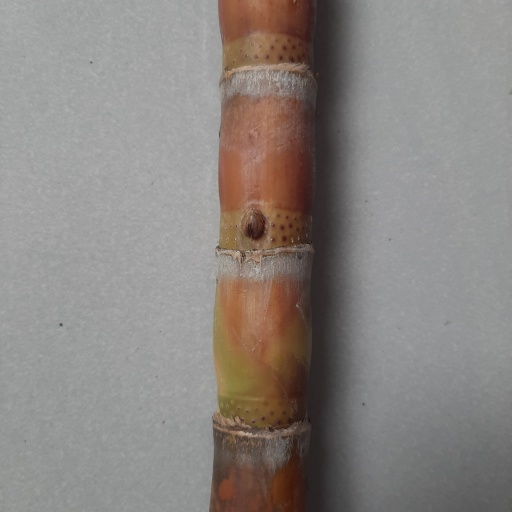Bud: (240, 208, 267, 241)
